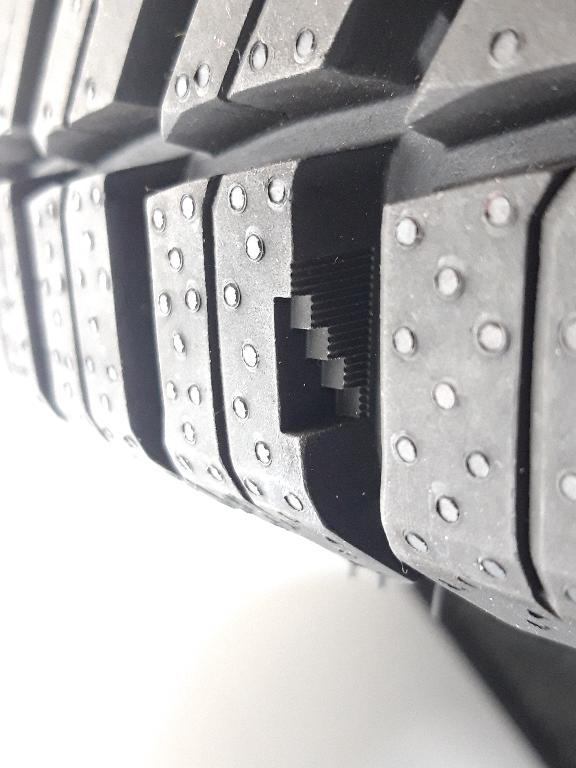temoin:100: (263, 242, 384, 445)
